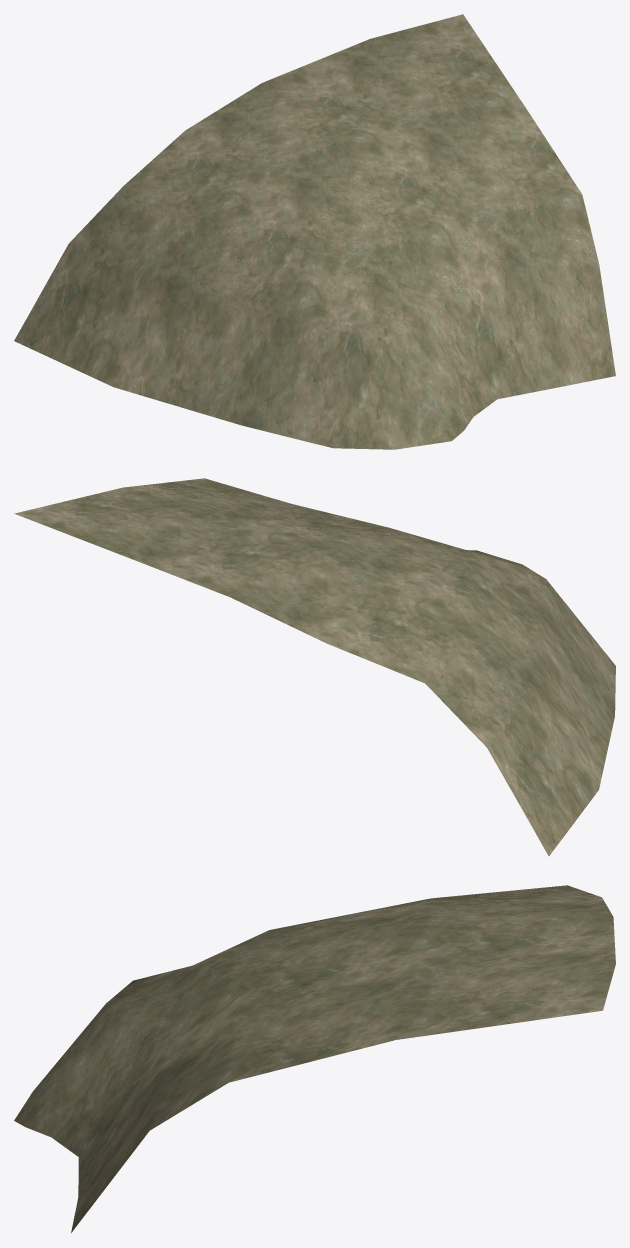
The model's file is OVERHILL_A_01_OBJECT164.fbx.
3 renders of one model, top to bottom at view 1: azimuth 30°, elevation 25°; view 2: azimuth 150°, elevation 25°; view 3: azimuth 270°, elevation 25°, orthographic. The views are drawn at different scales.
Parts seen in each view (by area): view 1: OVERHILL_A_01_OBJECT164; view 2: OVERHILL_A_01_OBJECT164; view 3: OVERHILL_A_01_OBJECT164.
Part boxes in pixels (box(x1,y1,x2,y2)): OVERHILL_A_01_OBJECT164: box(14, 14, 615, 449); OVERHILL_A_01_OBJECT164: box(14, 478, 615, 855); OVERHILL_A_01_OBJECT164: box(14, 885, 615, 1232).
Bounding box in the file's own units: 246576 × 103535 × 214611.
Materials: 2 (2 with a texture image).
